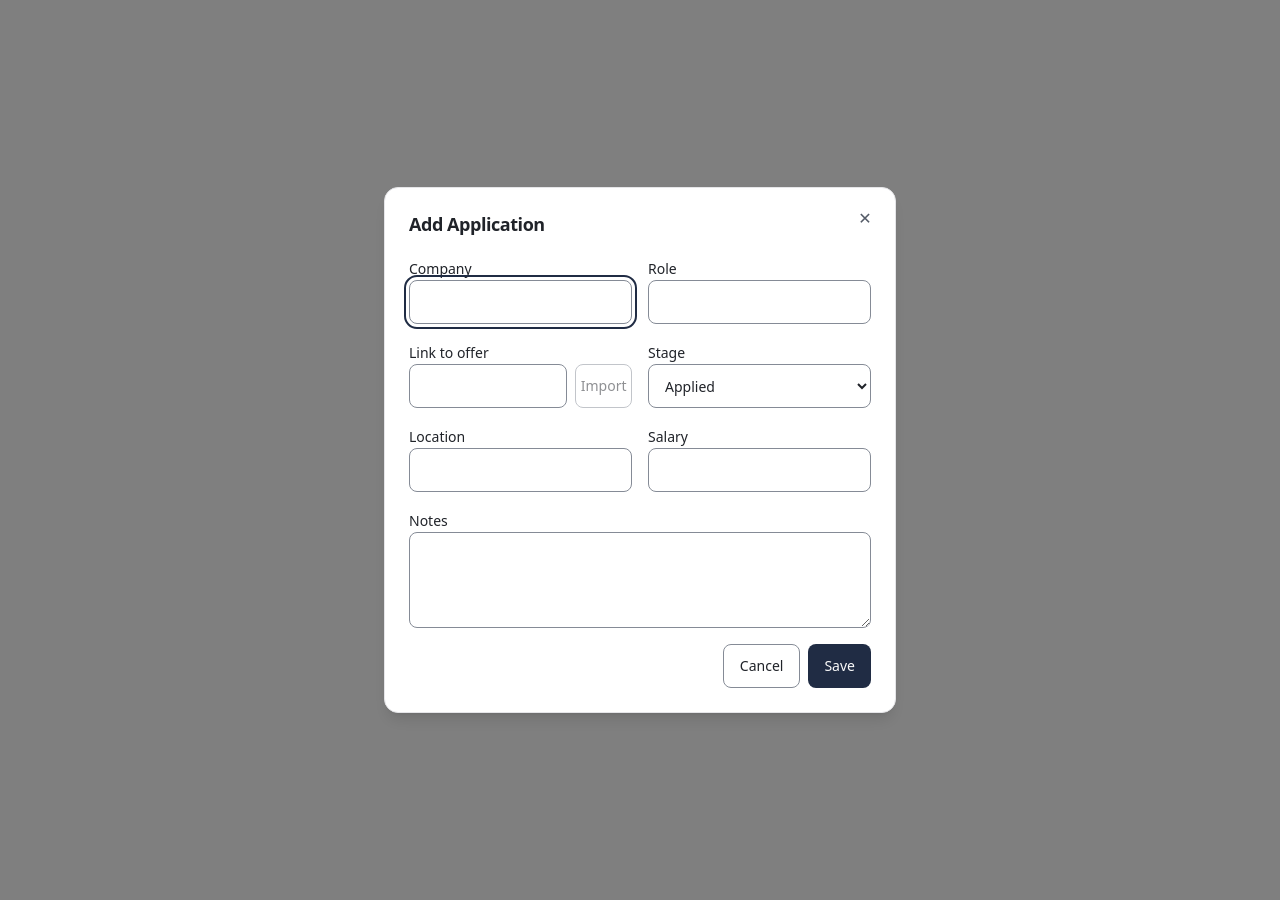
Test: ApplicationDialog › shows duplicate warning when duplicate detected
Step 1. Type "Google" into the field labelled "Company" → (520, 302), box [409, 280, 632, 324]
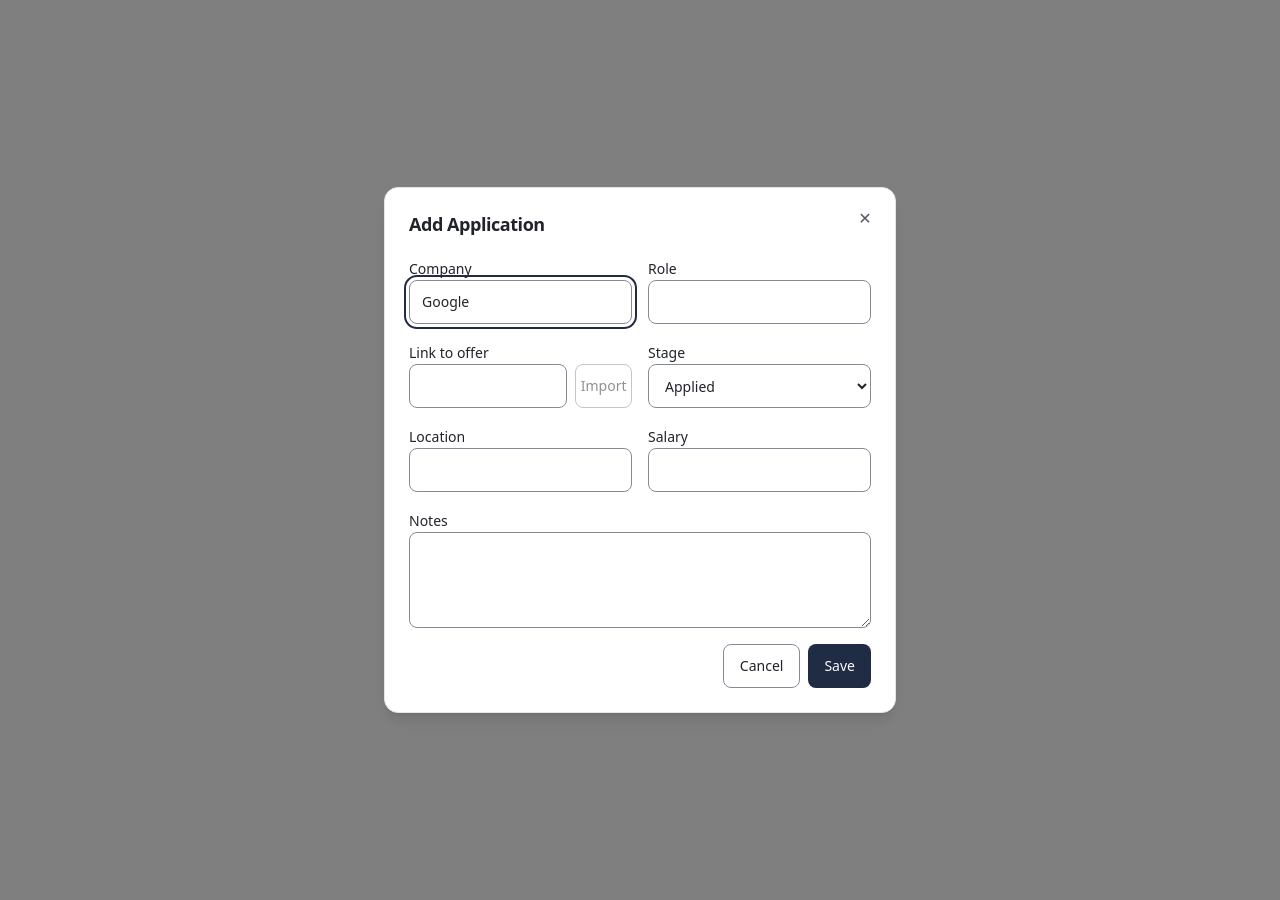
Step 2. Type "Engineer" into the field labelled "Role" → (760, 302), box [648, 280, 871, 324]
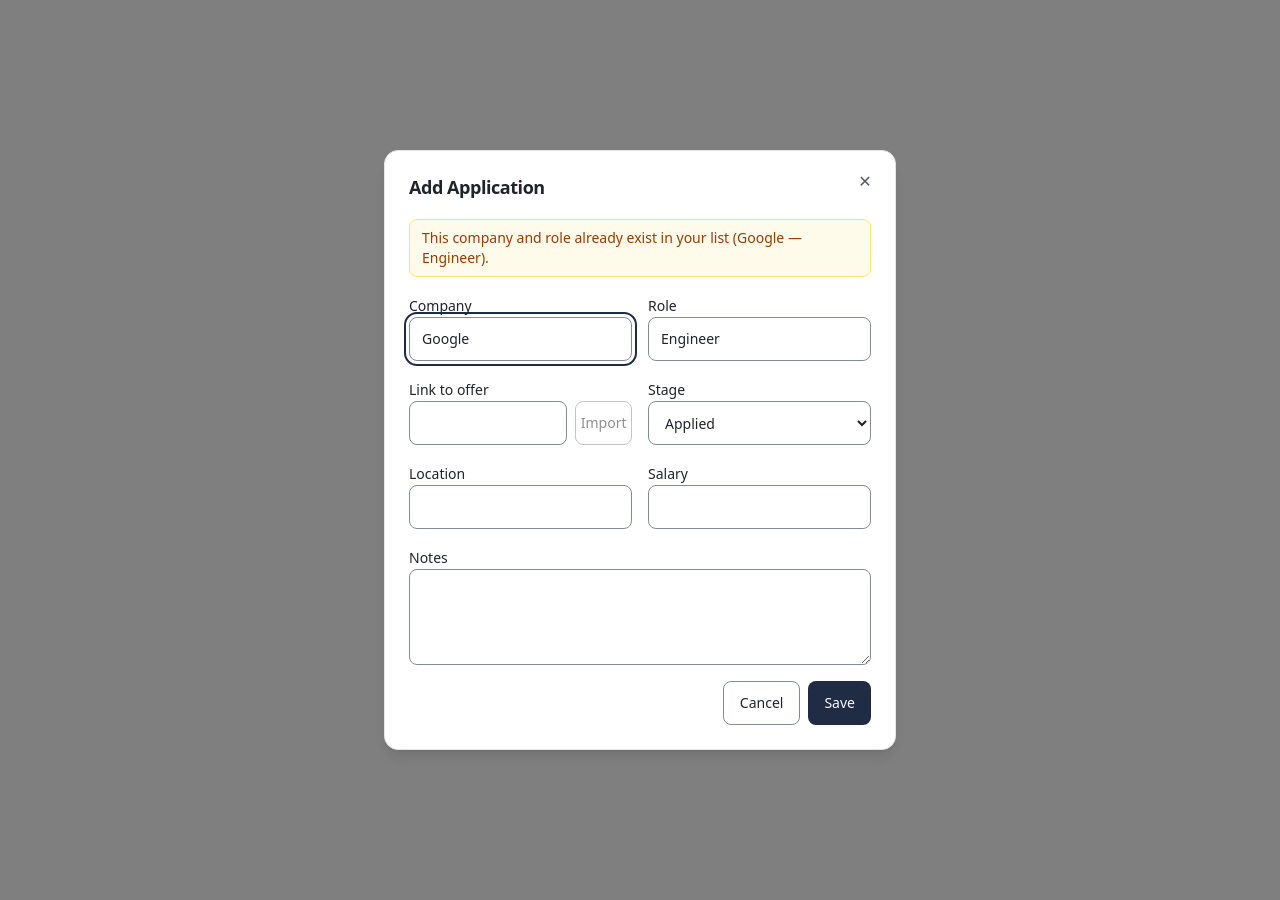
Expected: the text "already exist in your list" is shown, [422, 228, 802, 267]
